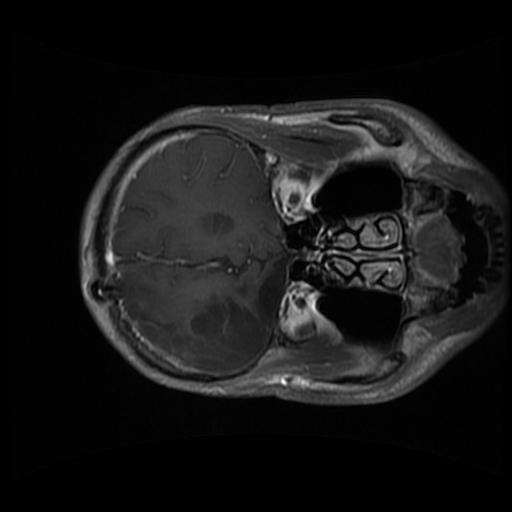glioma: (183, 253, 287, 372)
